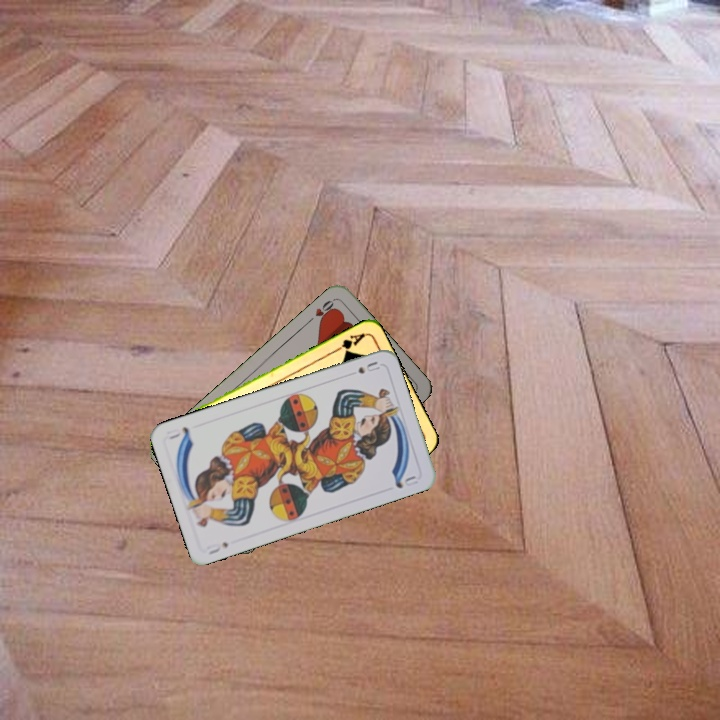GA: (330, 329, 368, 356)
HO: (303, 295, 338, 326)
SU: (354, 357, 382, 376), (203, 538, 231, 557)
